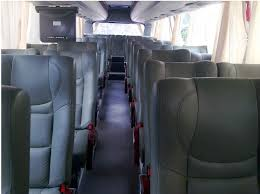seat: (10, 52, 77, 186)
